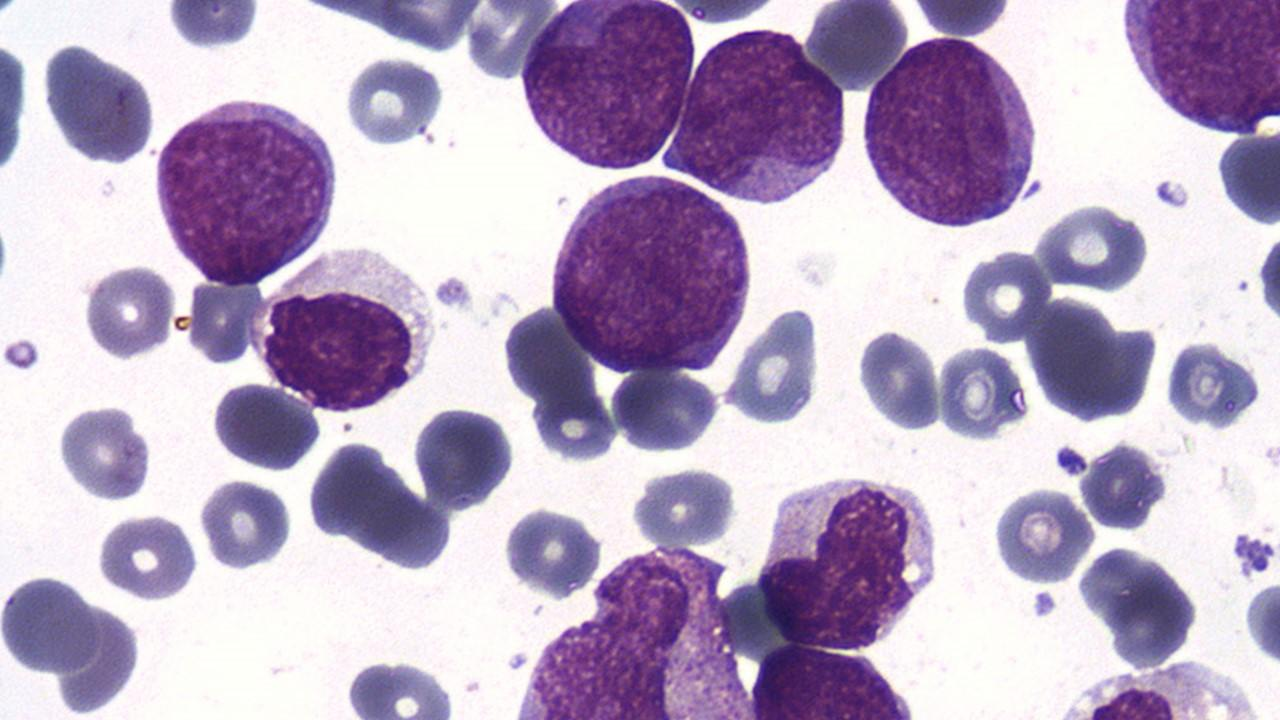Platelets: (500, 505, 603, 603), (162, 3, 263, 53), (1244, 575, 1280, 669), (1236, 530, 1278, 578), (432, 272, 474, 312), (1052, 441, 1090, 480), (1030, 586, 1058, 620), (1232, 529, 1252, 560), (1261, 442, 1280, 473), (506, 648, 530, 672), (1235, 276, 1251, 293), (1237, 557, 1251, 576)
RBC: (38, 36, 160, 170), (1075, 542, 1203, 667), (719, 303, 825, 426), (736, 646, 912, 716), (411, 402, 516, 515), (0, 569, 104, 680), (206, 380, 324, 474), (54, 399, 155, 506), (1036, 201, 1152, 294), (988, 485, 1095, 585), (340, 50, 449, 148), (802, 0, 914, 94), (92, 511, 202, 604), (78, 261, 179, 362), (500, 301, 595, 408), (502, 504, 602, 604), (853, 326, 944, 434), (612, 367, 726, 453), (628, 464, 741, 550), (196, 477, 296, 572), (958, 246, 1053, 346), (1161, 337, 1259, 431), (1079, 436, 1167, 533), (936, 342, 1019, 444), (528, 381, 620, 464), (1215, 124, 1280, 228), (187, 274, 257, 368), (907, 1, 1017, 36), (1242, 574, 1280, 669)
WBC: (544, 169, 755, 379), (850, 28, 1047, 234), (145, 88, 344, 288), (658, 19, 851, 211), (751, 468, 946, 655), (249, 240, 438, 417), (513, 0, 697, 175), (1113, 1, 1279, 140), (1035, 659, 1275, 715)
